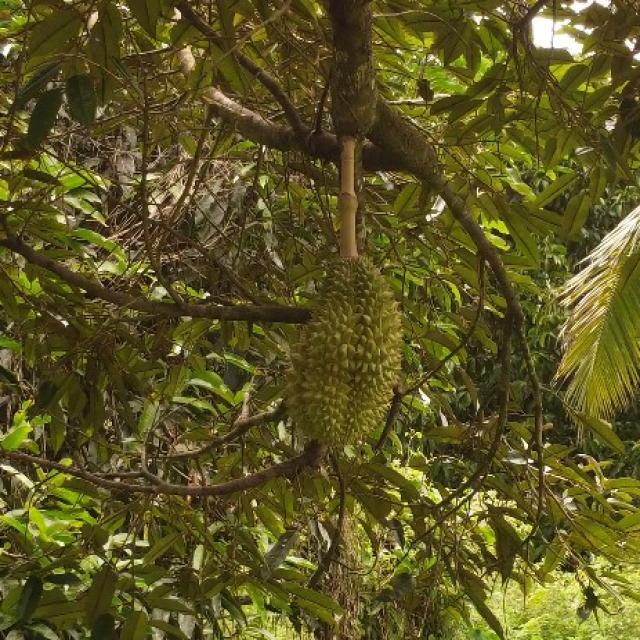immature: (285, 255, 405, 447)
